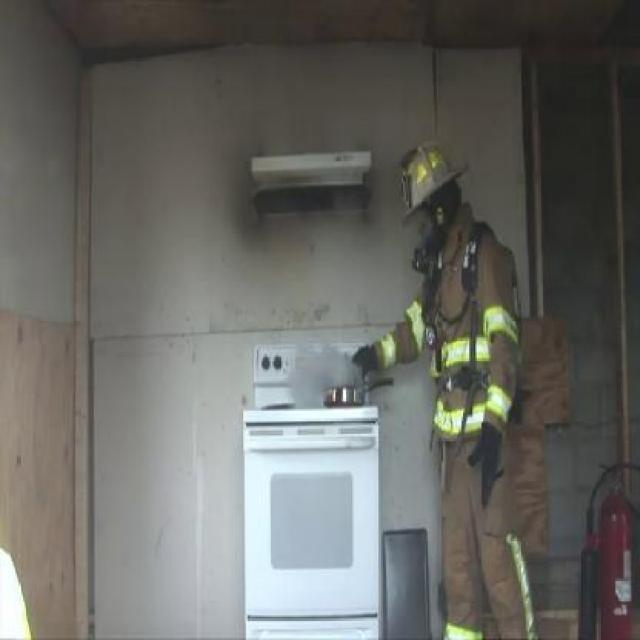smoke: (288, 338, 363, 406)
